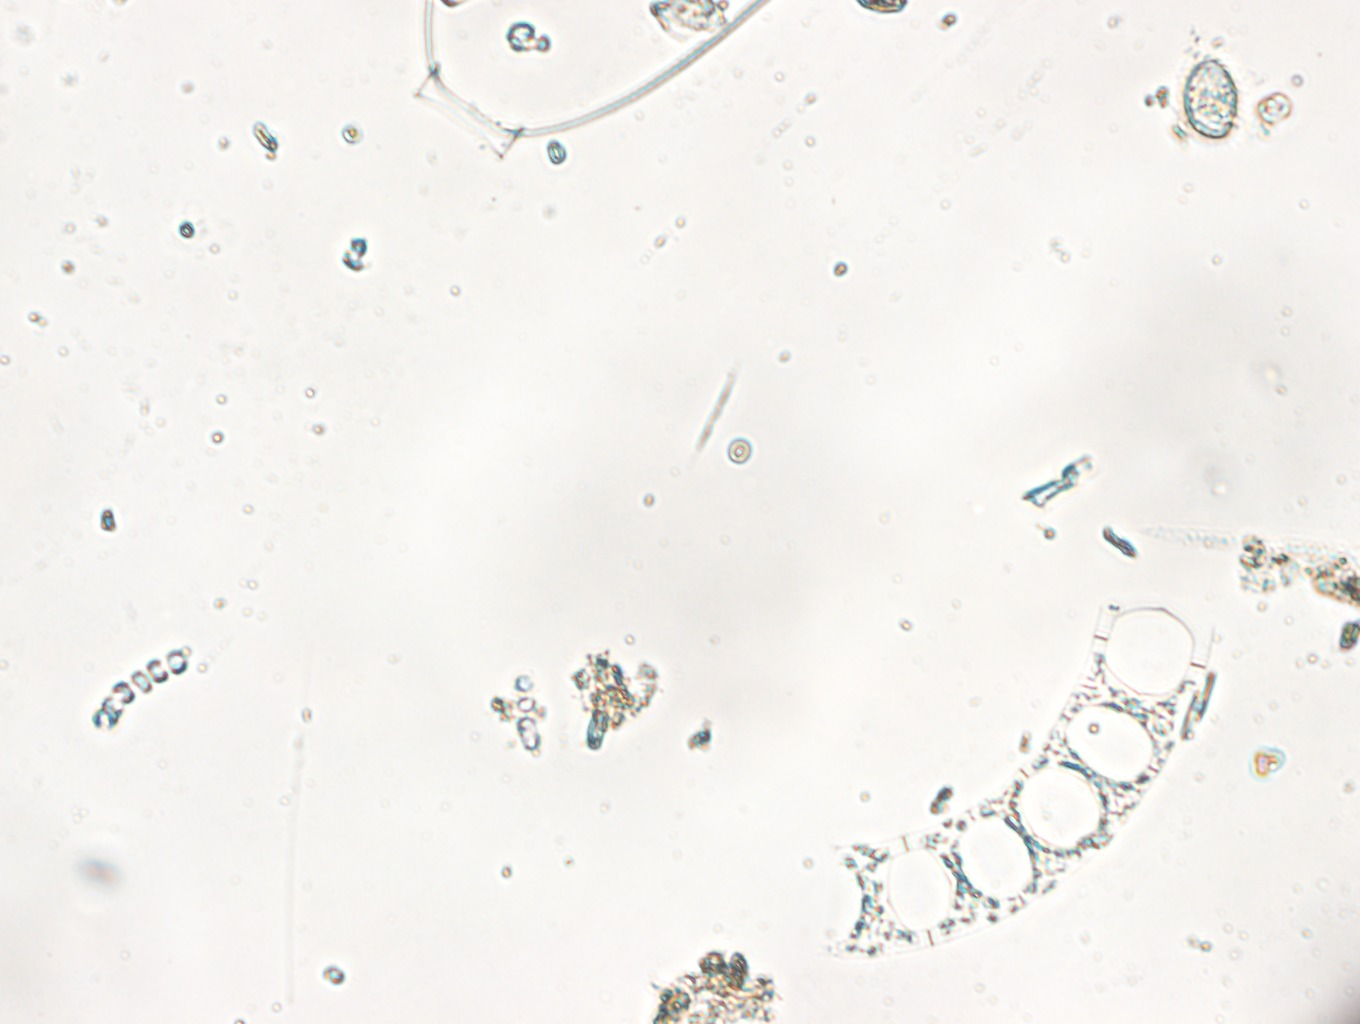chaetoceros: (413, 1, 774, 157)
eucampia: (827, 607, 1213, 956)
skeletonema: (89, 650, 187, 729)
